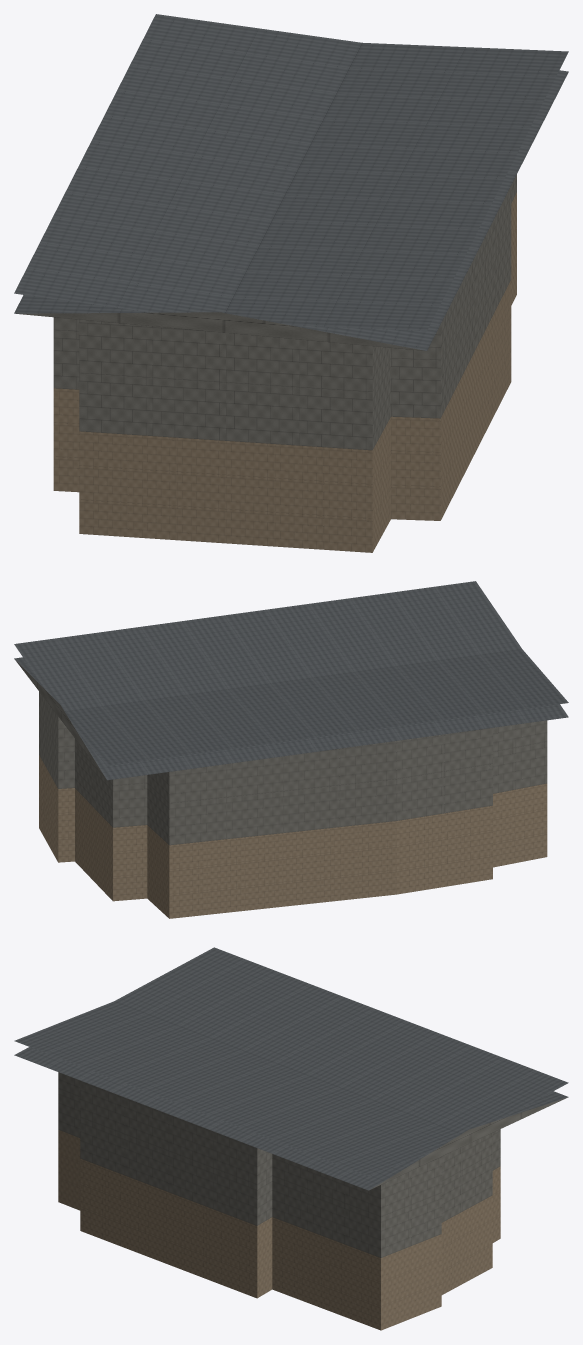
File: bld_c2_-8_601.gltf
3 renders of one model, top to bottom at view 1: azimuth 30°, elevation 25°; view 2: azimuth 150°, elevation 25°; view 3: azimuth 270°, elevation 25°, orthographic. The views are drawn at different scales.
Parts seen in each view (by area): view 1: bld_c2_-8_601; view 2: bld_c2_-8_601; view 3: bld_c2_-8_601.
Part boxes in pixels (bbox=[...]): bld_c2_-8_601: bbox=[14, 14, 568, 552]; bld_c2_-8_601: bbox=[14, 581, 568, 918]; bld_c2_-8_601: bbox=[14, 947, 568, 1330].
Bounding box in the file's own units: 34.58 × 11.9 × 35.4.
4 materials, 4 textured.
